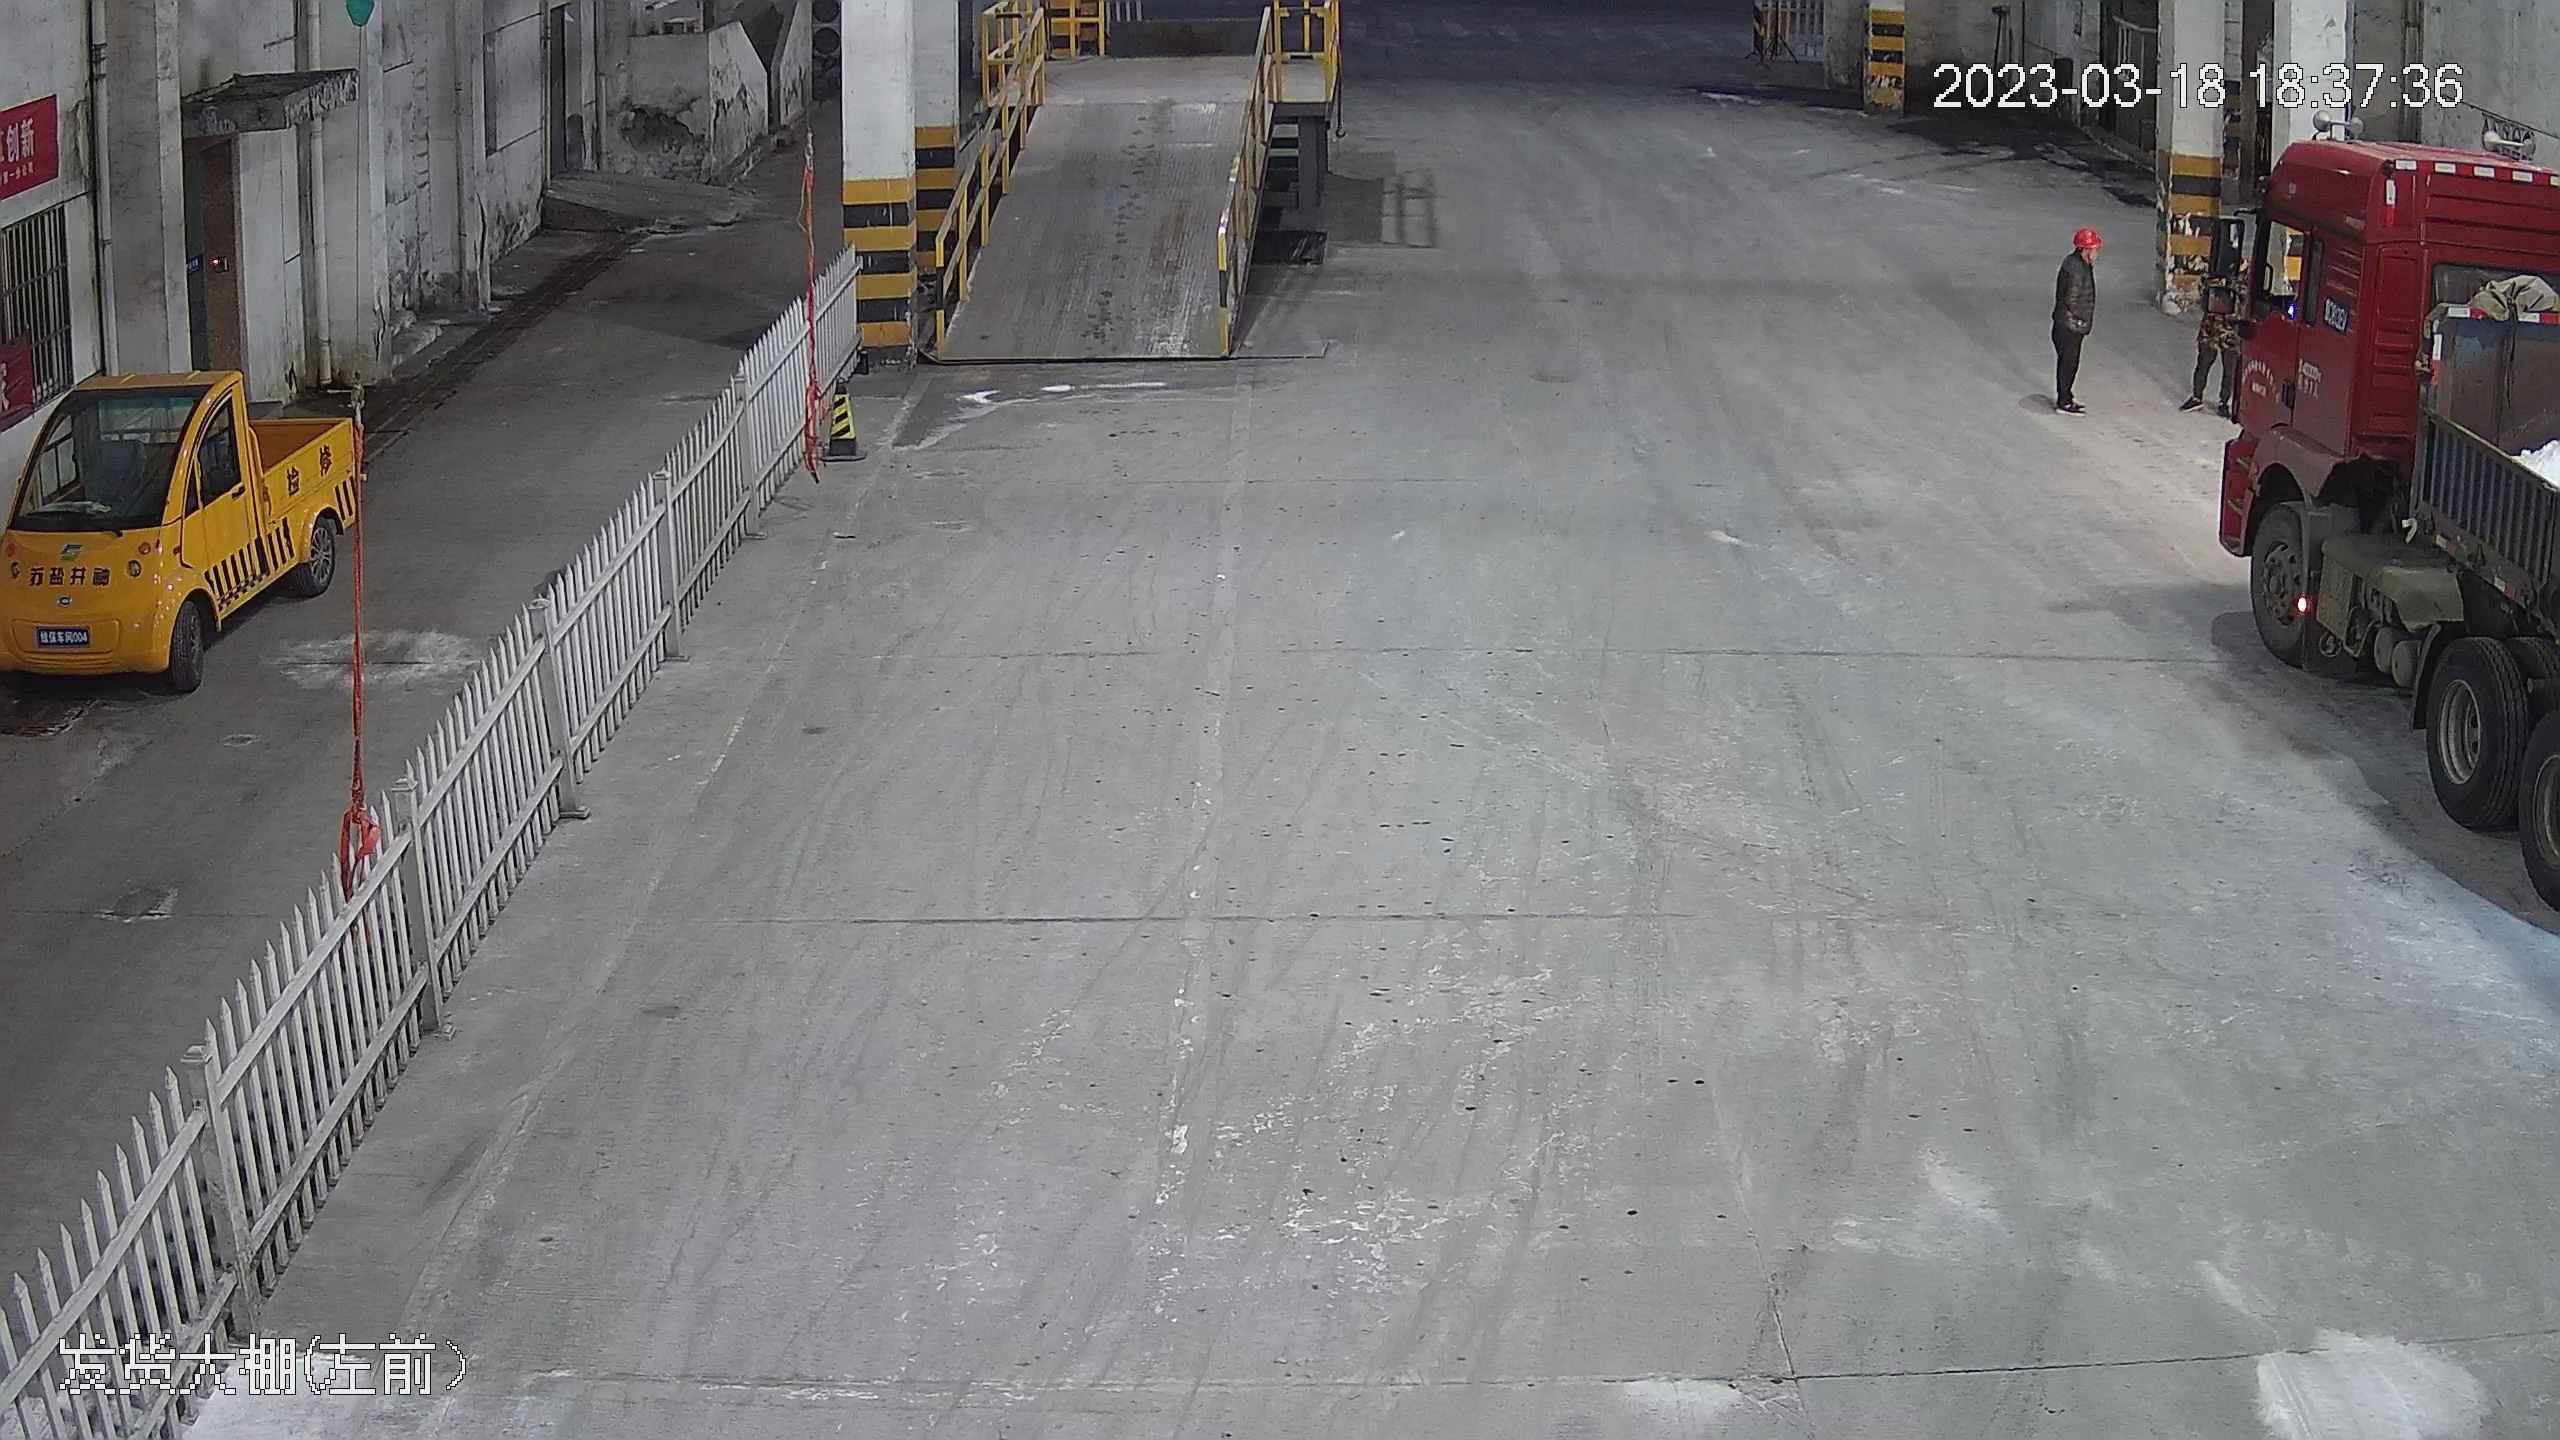head: (2054, 223, 2102, 285)
helmet: (2070, 222, 2099, 249)
people: (2040, 220, 2102, 419)
truck: (2199, 93, 2560, 995)
